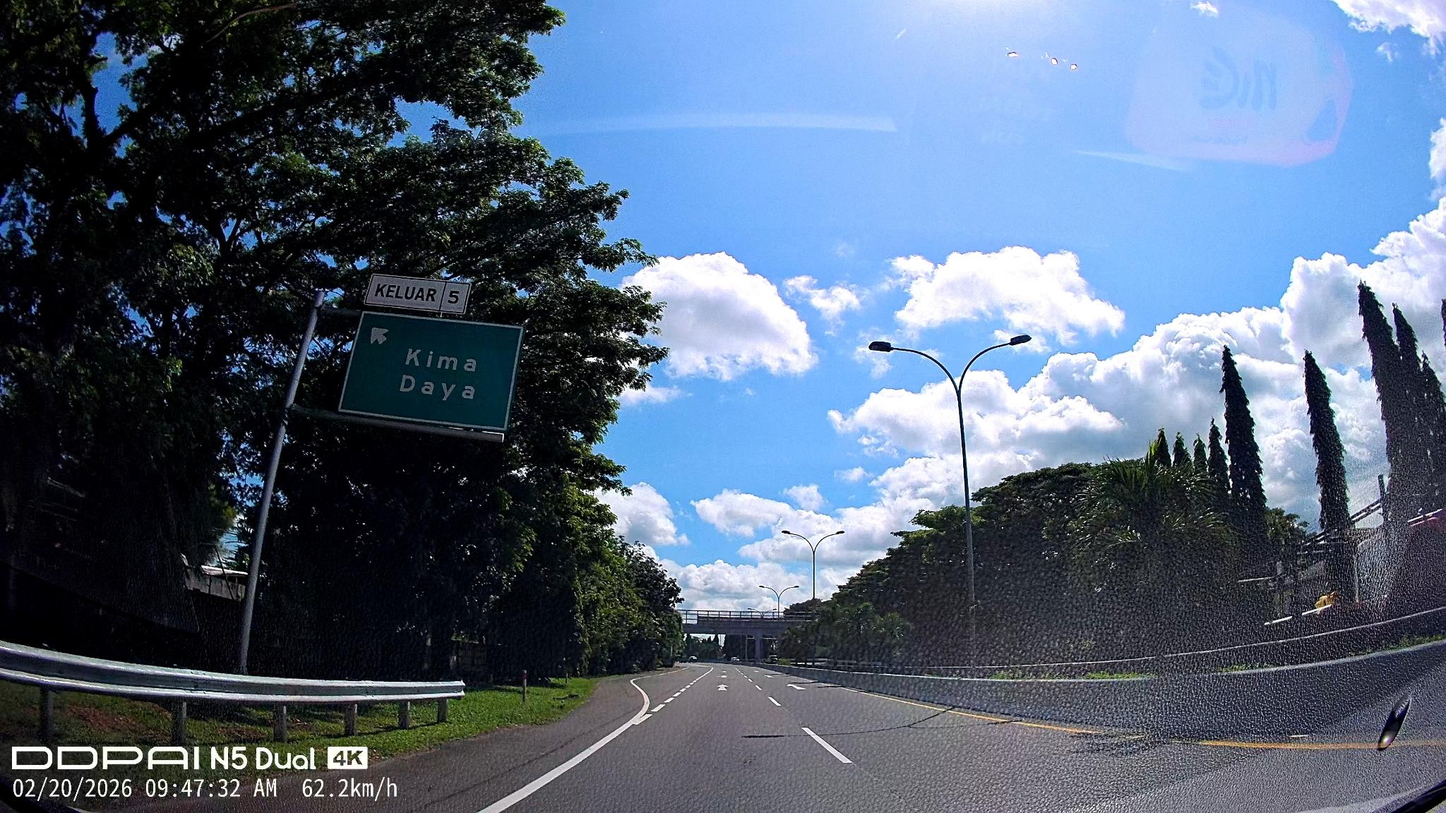rambu_teks: (337, 308, 525, 432)
